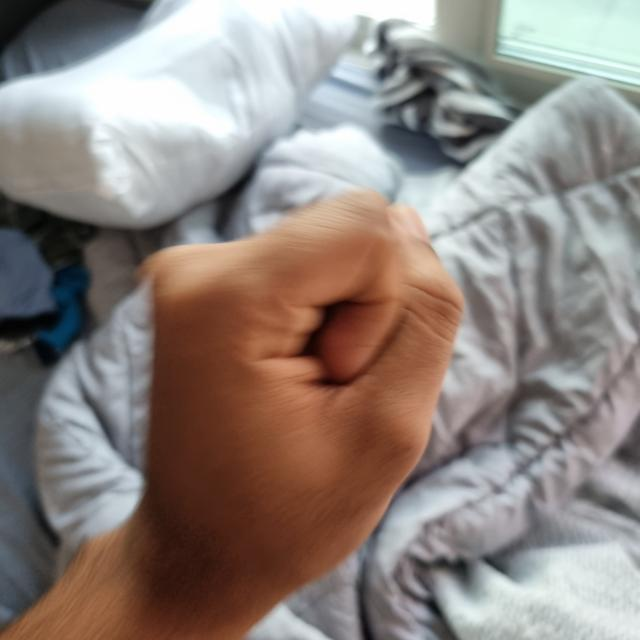Rock: (132, 193, 459, 622)
